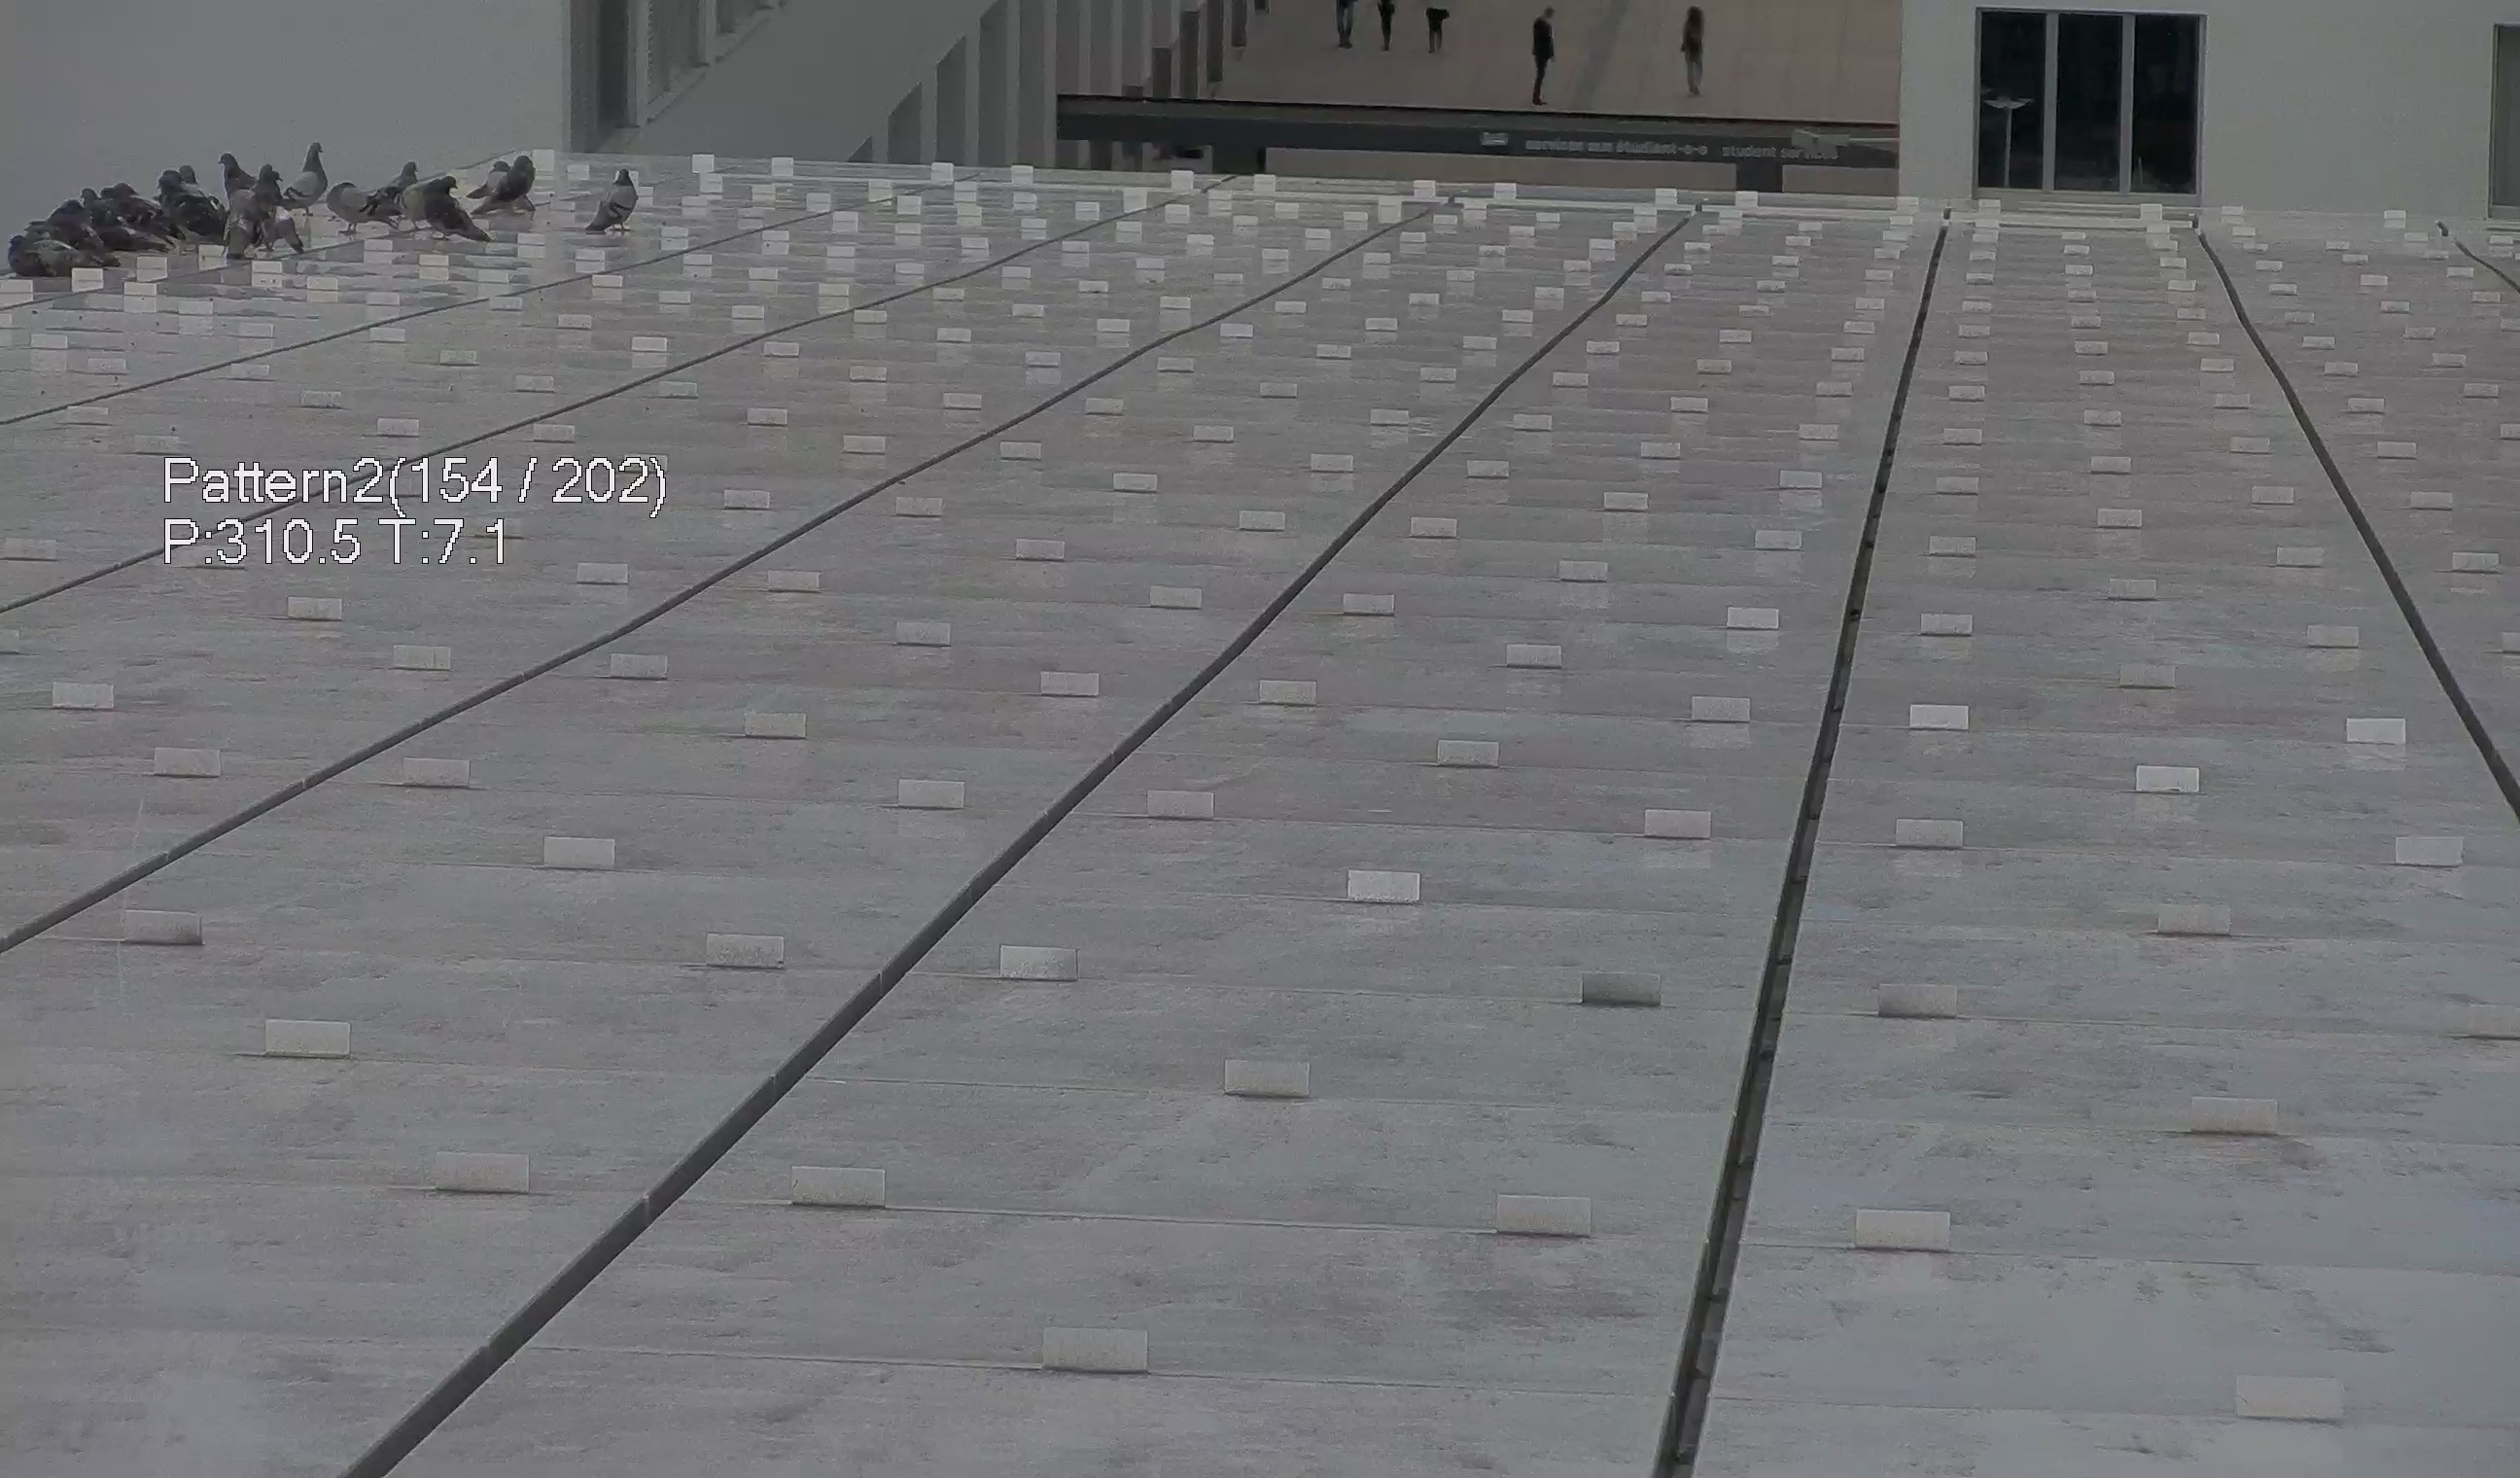Pigeon: (208, 151, 292, 262), (408, 178, 492, 246), (466, 150, 538, 215), (276, 137, 332, 218), (322, 179, 401, 232), (587, 167, 642, 232), (371, 162, 424, 206)
